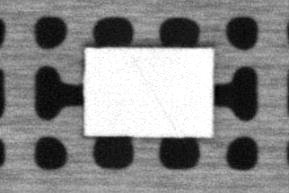DIE_CRACK: (134, 61, 178, 131)
